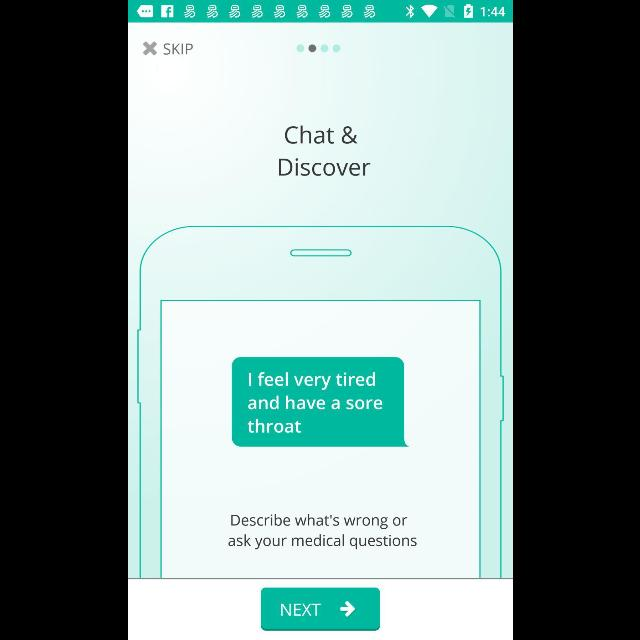icon: (142, 42, 156, 56)
image: (136, 226, 504, 578)
pageindicator: (296, 44, 340, 54)
text: (278, 126, 370, 176), (164, 44, 192, 54)
textbutton: (260, 588, 380, 630)
uppertaskbar: (128, 1, 512, 23)
